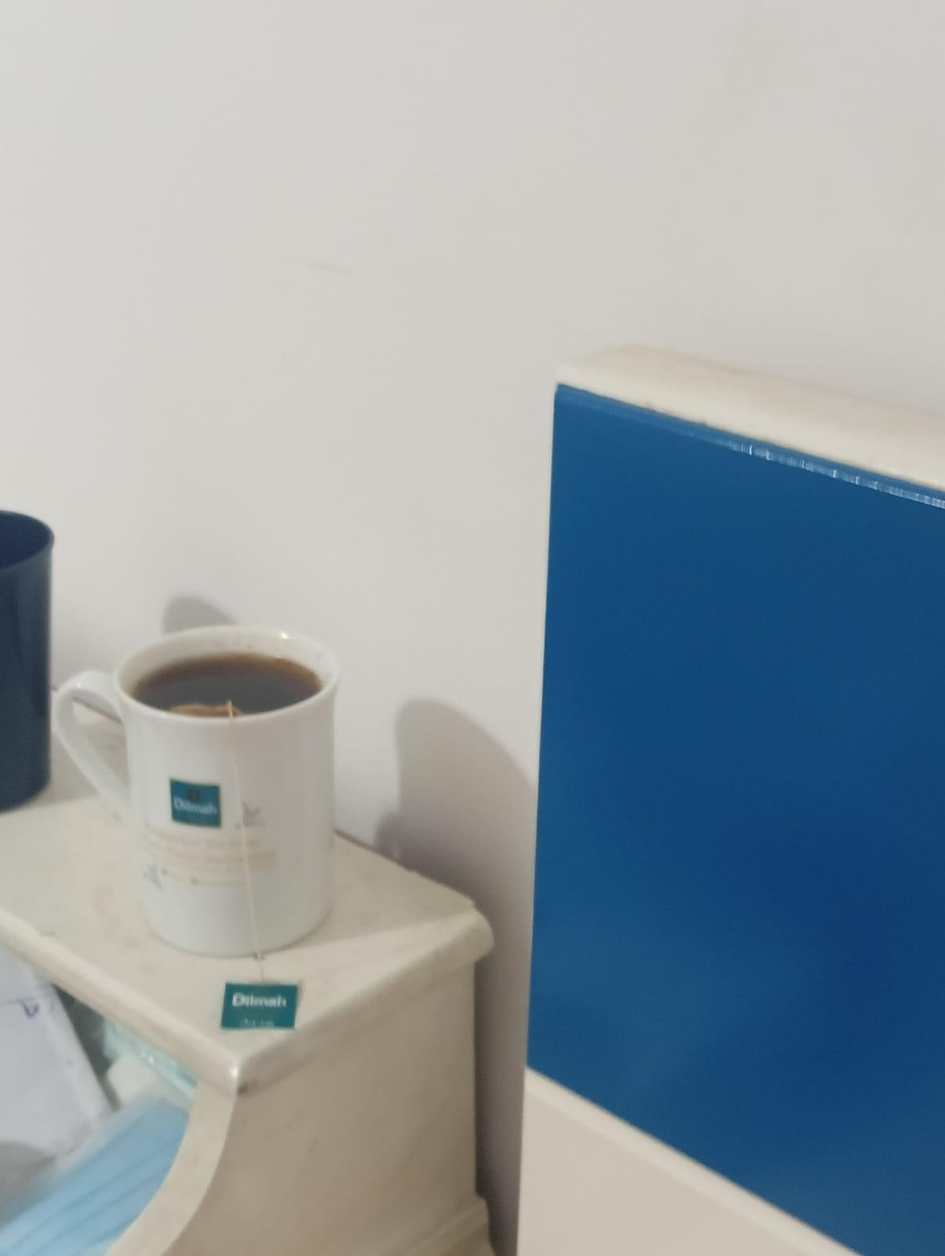cup: (53, 626, 338, 955), (0, 511, 53, 810)
